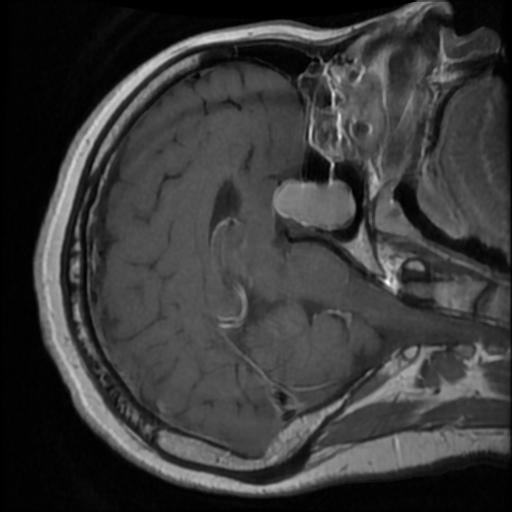pituitary tumour: (273, 182, 354, 229)
